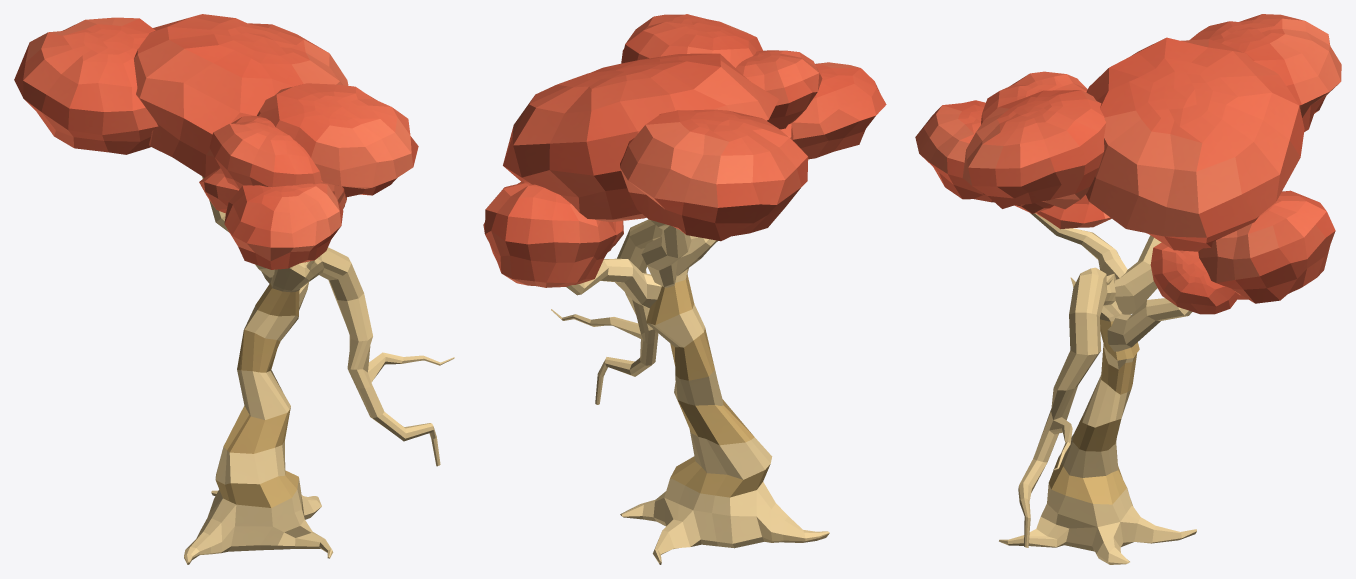
The model's file is tree_3_b.glb.
3 renders of one model, left to right at view 1: azimuth 30°, elevation 25°; view 2: azimuth 150°, elevation 25°; view 3: azimuth 270°, elevation 25°, orthographic. The views are drawn at different scales.
Visible parts, largest first — view 1: crown_3_b, trunk_3_b; view 2: crown_3_b, trunk_3_b; view 3: crown_3_b, trunk_3_b.
Boxes of the visible parts, left/top/right/bottom form: crown_3_b: left=14, top=14, right=418, bottom=269; trunk_3_b: left=184, top=176, right=454, bottom=564; crown_3_b: left=483, top=14, right=886, bottom=287; trunk_3_b: left=551, top=219, right=829, bottom=564; crown_3_b: left=915, top=14, right=1341, bottom=314; trunk_3_b: left=999, top=213, right=1196, bottom=564.
Bounding box in the file's own units: 3.91 × 5.36 × 4.36.
Materials: 1 (1 with a texture image).
